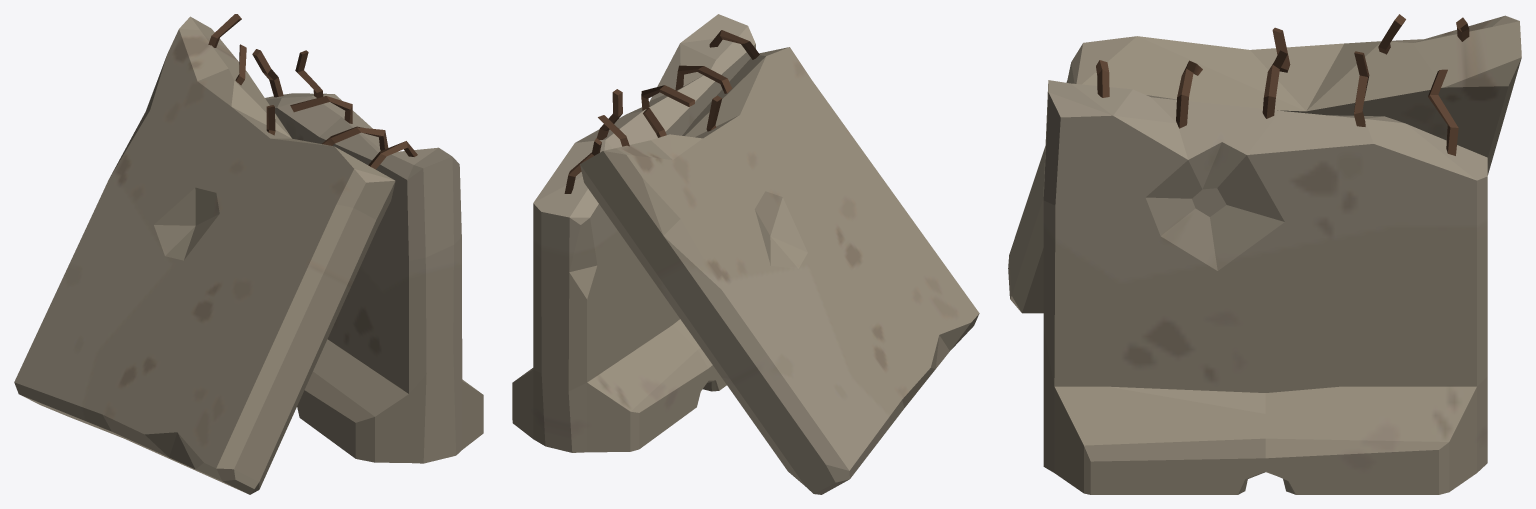
File: SM_Prop_Barrier_Tall_05.glb
The picture shows the model from 3 angles, left to right: view 1: azimuth 30°, elevation 25°; view 2: azimuth 150°, elevation 25°; view 3: azimuth 270°, elevation 25°; orthographic projection. The views are drawn at different scales.
Visible parts, largest first — view 1: SM_Prop_Barrier_Tall_05; view 2: SM_Prop_Barrier_Tall_05; view 3: SM_Prop_Barrier_Tall_05.
Part boxes in pixels (<box>): SM_Prop_Barrier_Tall_05: <box>14,14,483,494</box>; SM_Prop_Barrier_Tall_05: <box>512,14,979,494</box>; SM_Prop_Barrier_Tall_05: <box>1008,14,1521,494</box>.
Bounding box in the file's own units: 1.86 × 1.79 × 1.99.
Materials: 1 (1 with a texture image).
